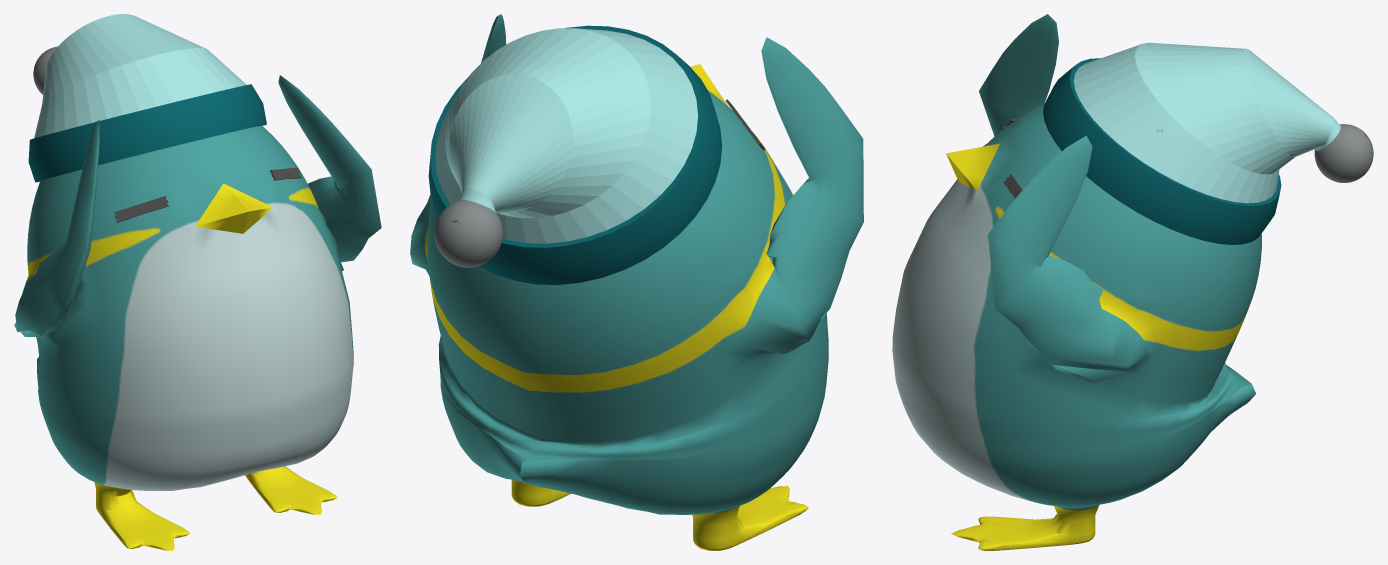
File: penguin_blue_throw_04f.fbx
3 renders of one model, left to right at view 1: azimuth 30°, elevation 25°; view 2: azimuth 150°, elevation 25°; view 3: azimuth 270°, elevation 25°, orthographic. The views are drawn at different scales.
Visible parts, largest first — view 1: ppp4, bousi, ai; view 2: ppp4, bousi; view 3: ppp4, bousi.
Boxes of the visible parts, <box> form: ppp4: <box>14,75,381,550</box>; bousi: <box>28,14,266,182</box>; ai: <box>113,167,301,222</box>; ppp4: <box>410,14,863,550</box>; bousi: <box>428,25,721,284</box>; ppp4: <box>892,14,1261,550</box>; bousi: <box>1043,42,1373,244</box>.
Bounding box in the file's own units: 14.48 × 18.24 × 17.9.
Materials: 1 (1 with a texture image).
